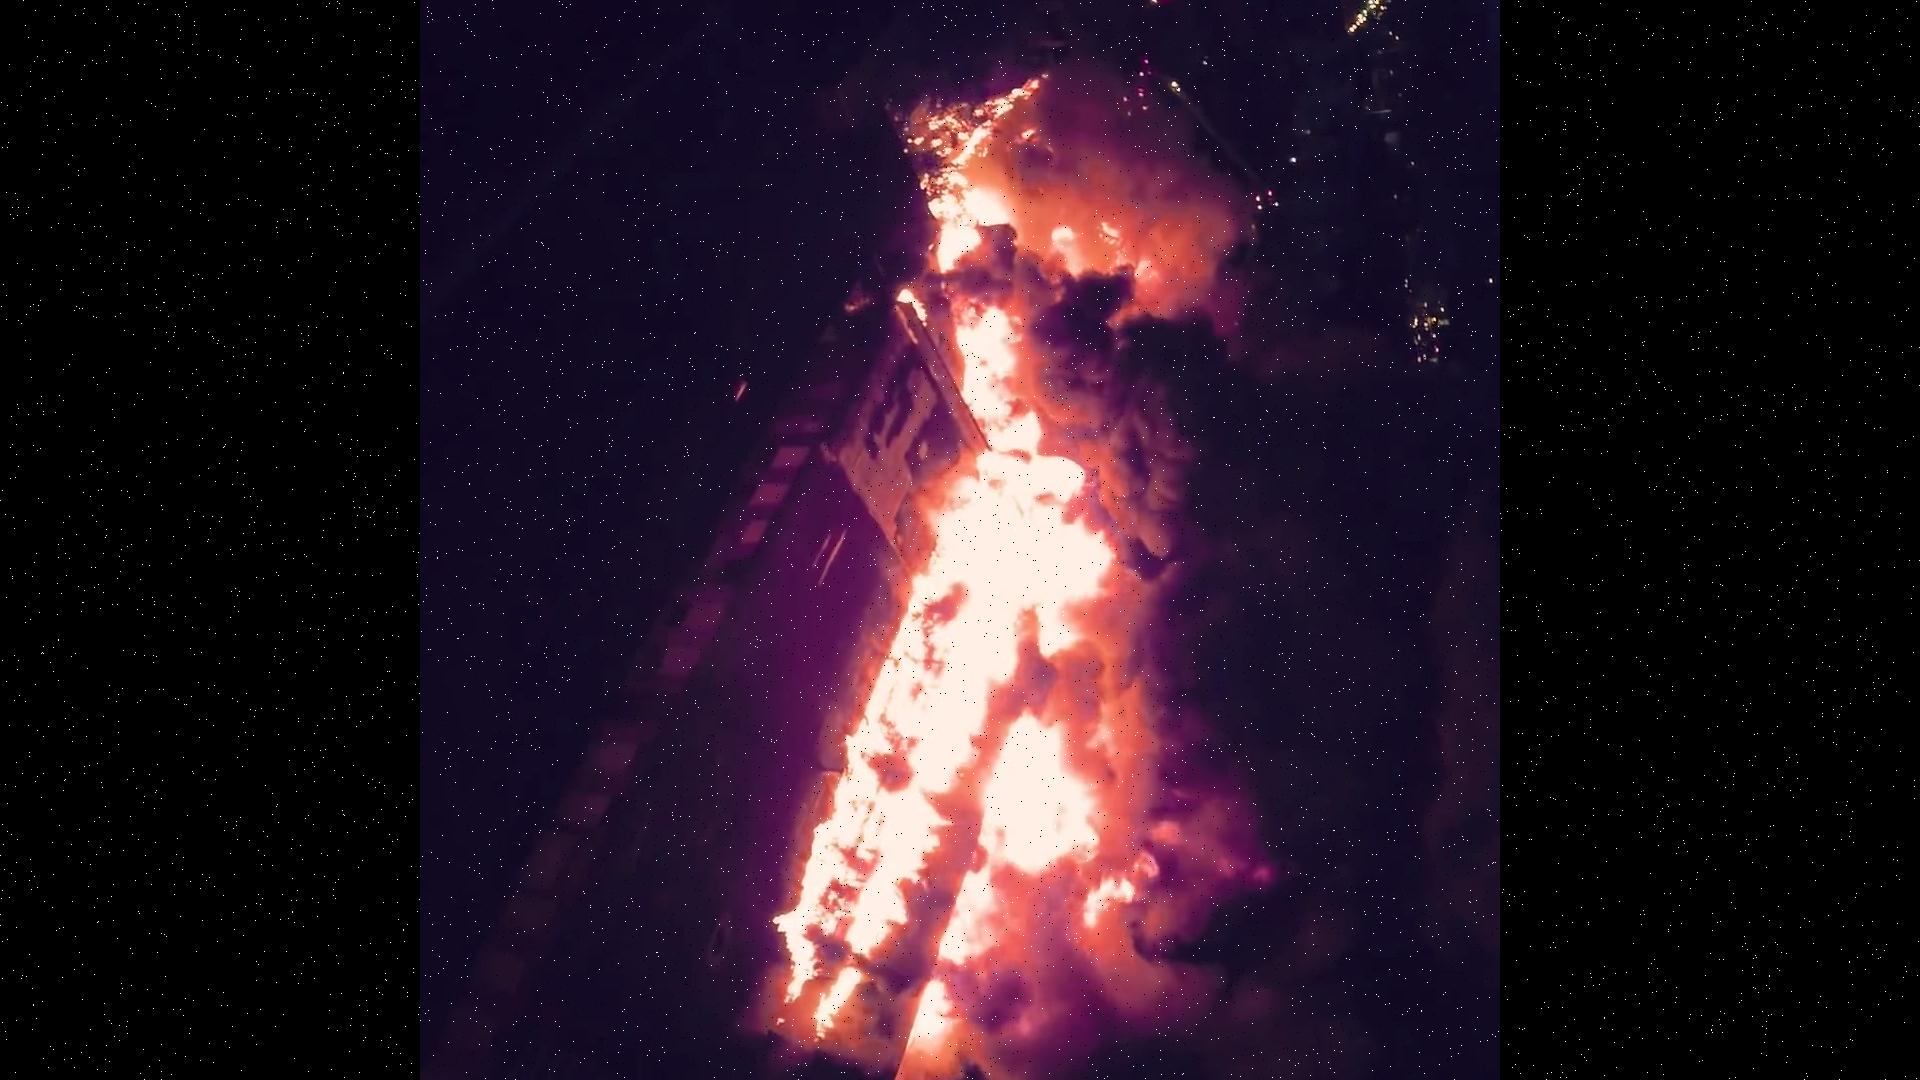fire: (774, 54, 1312, 1080)
